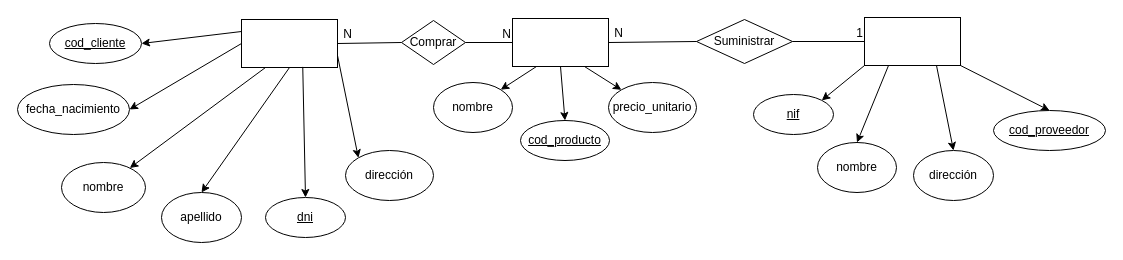
This 1123x260 diagram has some shape labels left out. The shapes that lost their labels are listed below. From the top down, each one's centre as x and y in pixels, then its label:
pixel 289 43: Cliente
pixel 560 42: Producto
pixel 912 41: Proveedor
